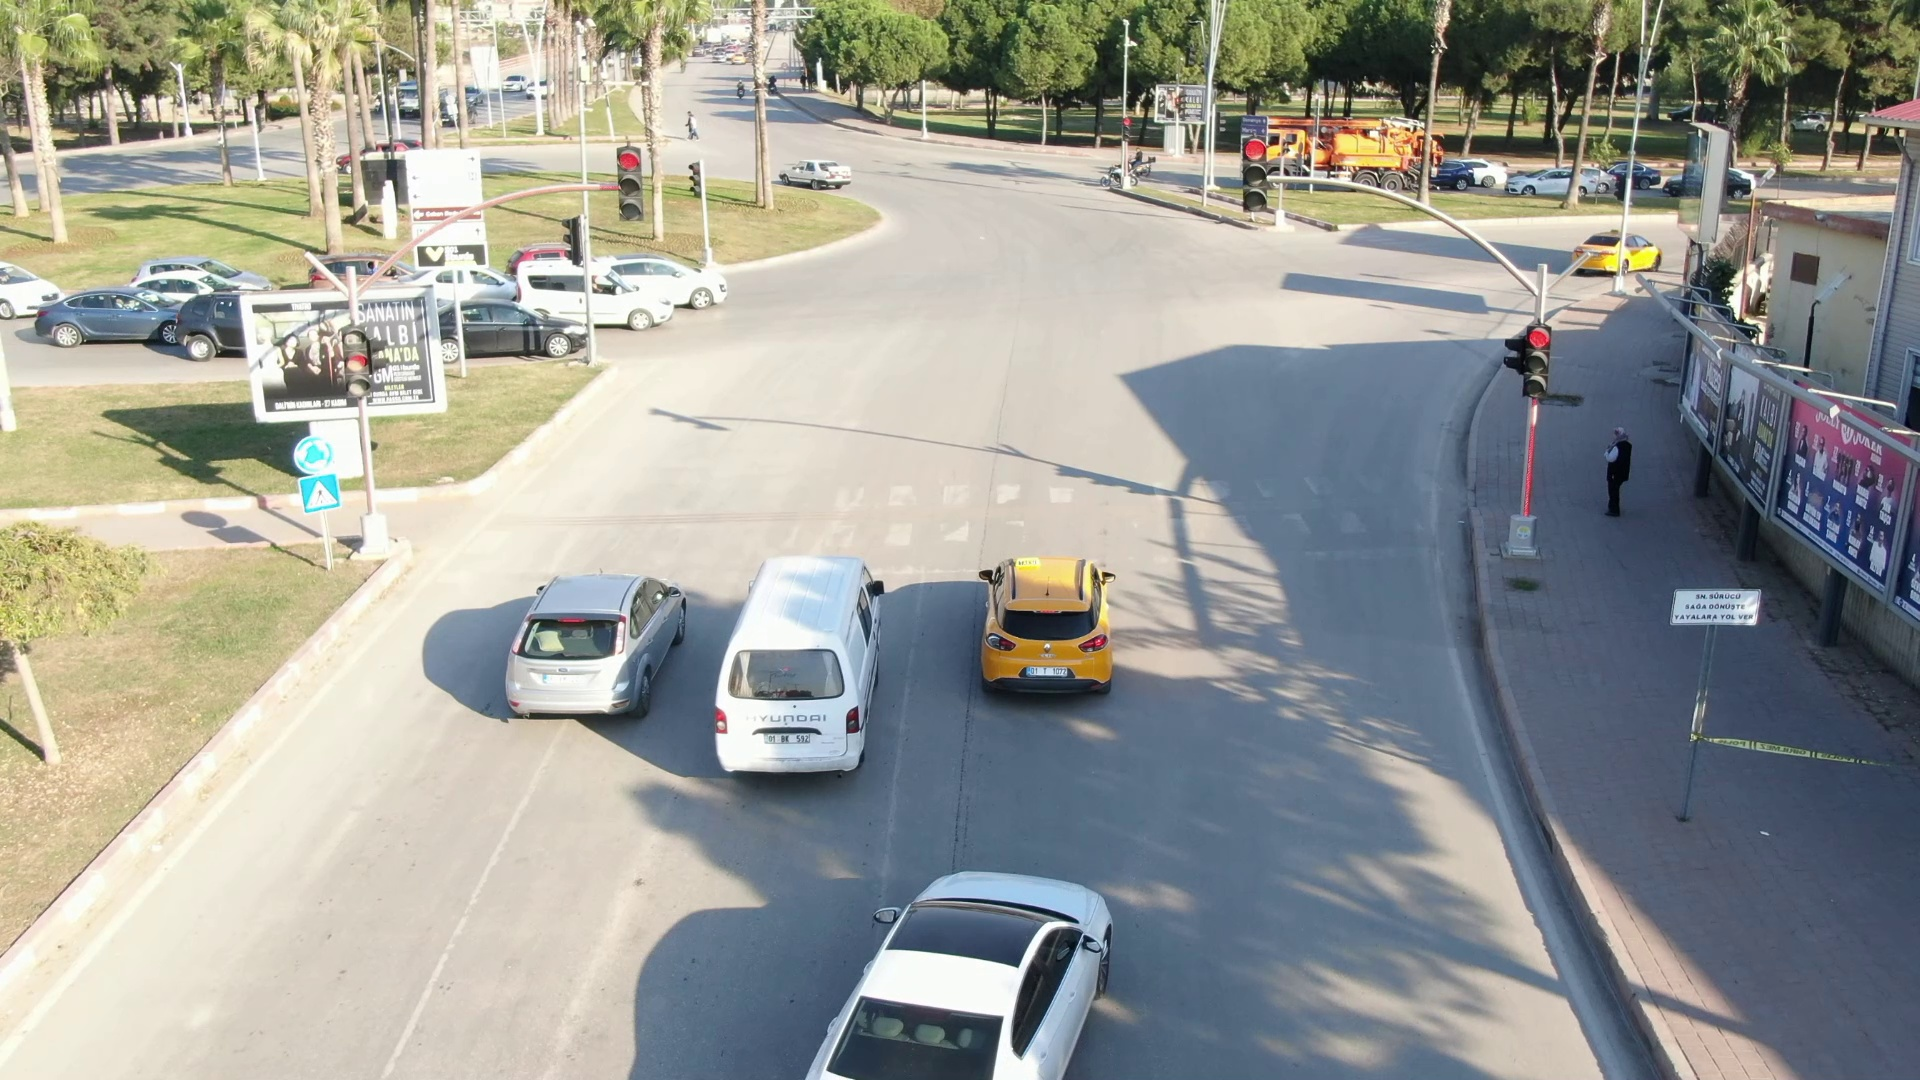car: (803, 866, 1133, 1080), (702, 553, 896, 790), (508, 539, 698, 727), (978, 555, 1123, 702), (508, 247, 680, 327), (429, 290, 596, 361), (580, 245, 733, 308), (1578, 225, 1659, 280)
person: (1598, 421, 1639, 519)
